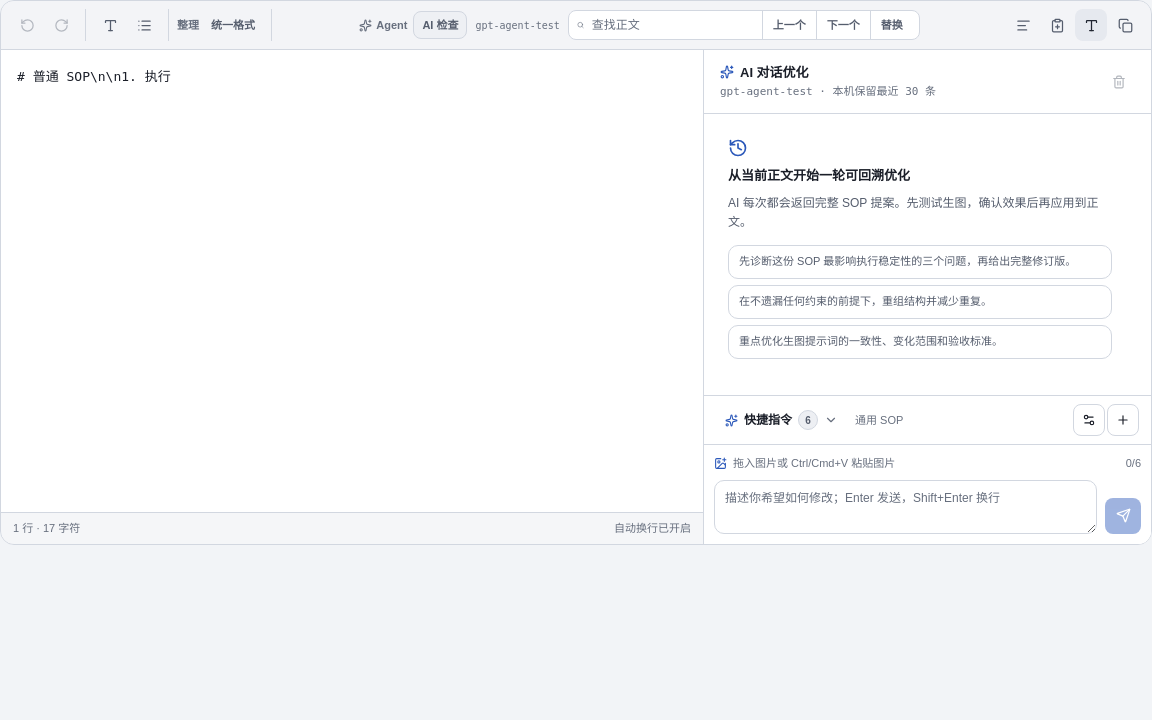
Test: SopTextEditor element pool instructions › keeps the step-SOP instruction group for plain documents
Click the button "快捷指令 6": point(782, 420) [716, 404, 847, 436]
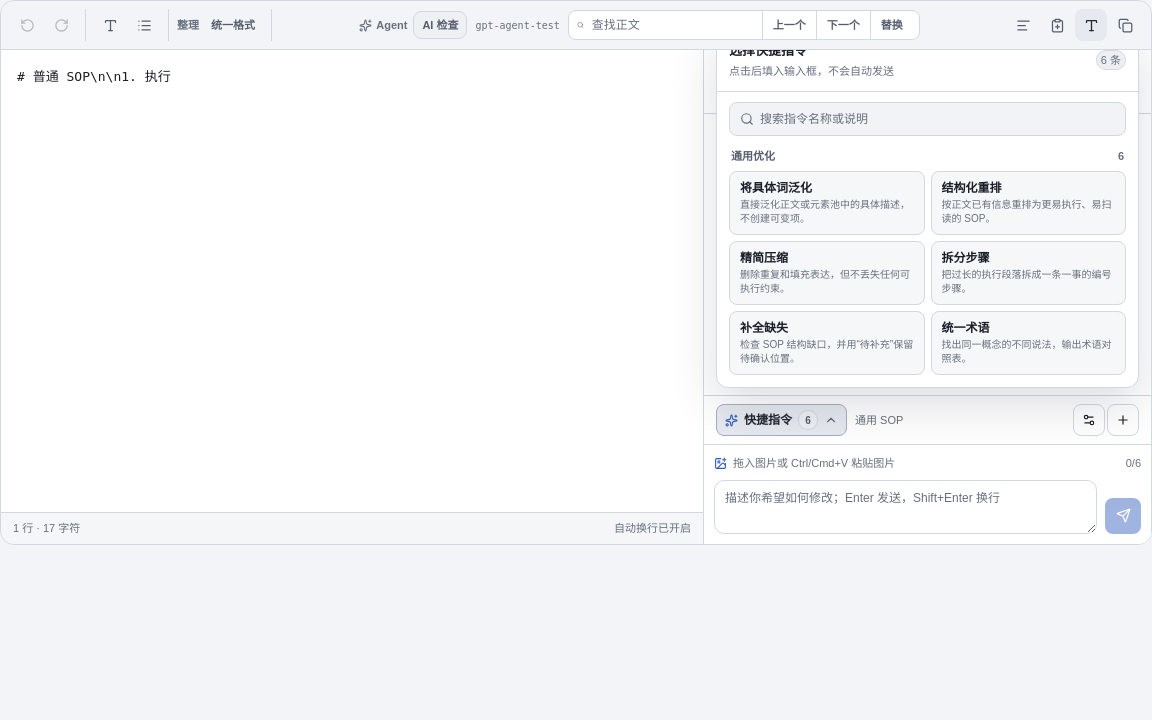
Expected: the button "将具体词泛化 直接泛化正文或元素池中的具体描述，不创建可变项。" is shown, [729, 171, 924, 235]
